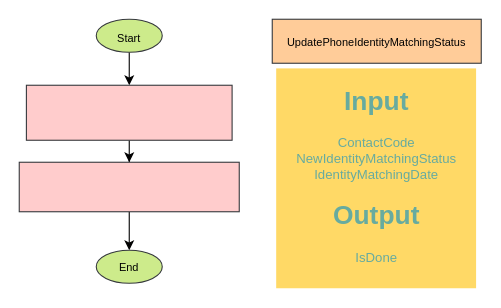
The diagram is 501 pixels wide and 308 high, and some of its shapes have lost their labels. The shapes that lost their labels are listed below. From the top down, each one's centre as x and y in pixels, then its label:
point 128,112: Ccms UpdatePhoneIdentityMatchingStatus
point 128,186: DataBase SpUpdatePhoneIdentityMatchingStatus
